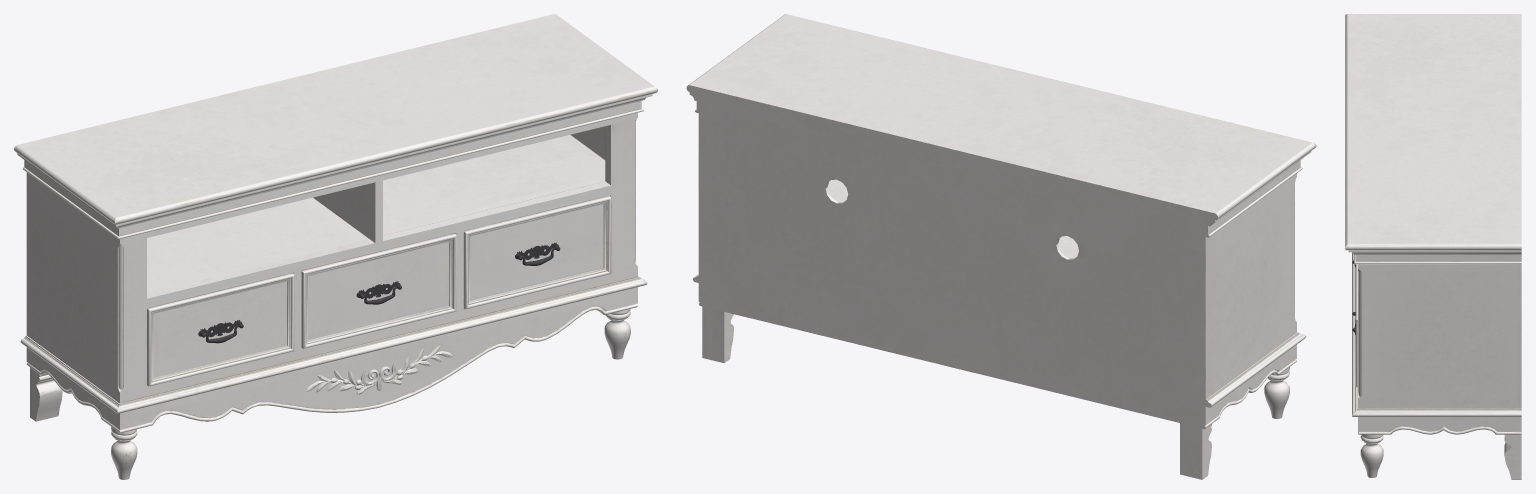
Rendered from example168.gltf.
3 views of the same model, side by side, from view 1: azimuth 30°, elevation 25°; view 2: azimuth 150°, elevation 25°; view 3: azimuth 270°, elevation 25° (orthographic). The views are drawn at different scales.
Size of the model in its own units: 140 by 68.1 by 45.05.
3 materials, 2 textured.
